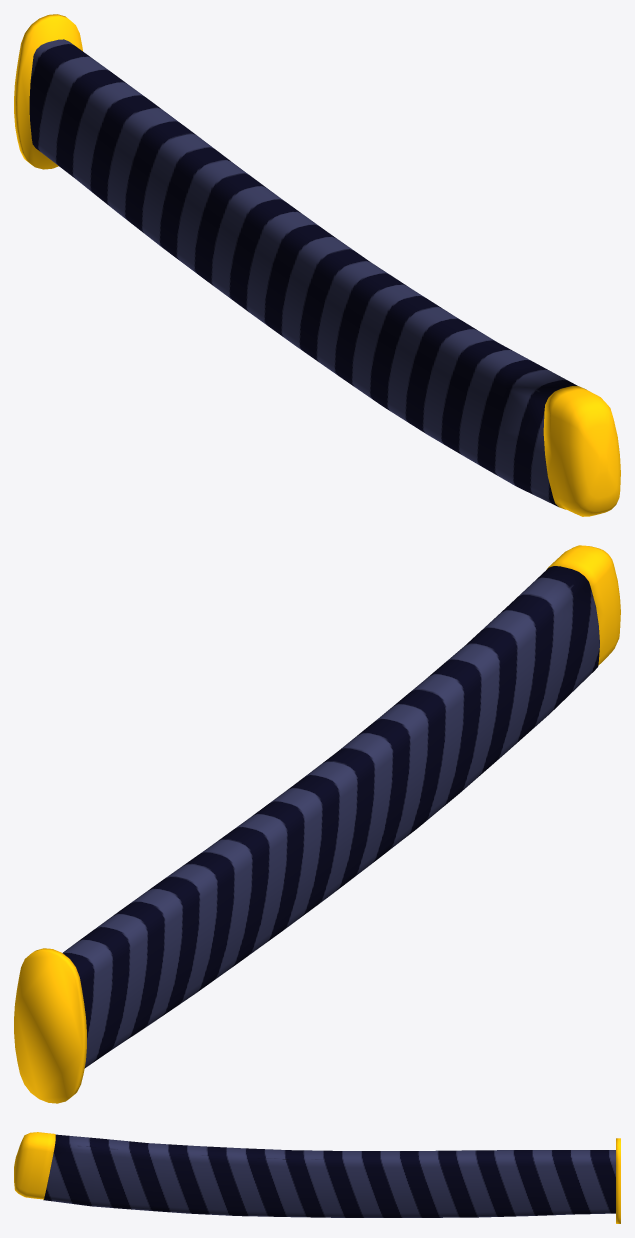
File: hilt_serpent.glb
The picture shows the model from 3 angles, top to bottom: view 1: azimuth 30°, elevation 25°; view 2: azimuth 150°, elevation 25°; view 3: azimuth 270°, elevation 25°; orthographic projection. The views are drawn at different scales.
Parts seen in each view (by area): view 1: Hilt.003; view 2: Hilt.003; view 3: Hilt.003.
Boxes of the visible parts, x1,y1,x2,y2 form: Hilt.003: (14, 14, 620, 516); Hilt.003: (14, 545, 620, 1103); Hilt.003: (14, 1132, 620, 1223).
Size of the model in its own units: 0.0353 by 0.0789 by 0.4948.
Materials: 2 (1 with a texture image).
